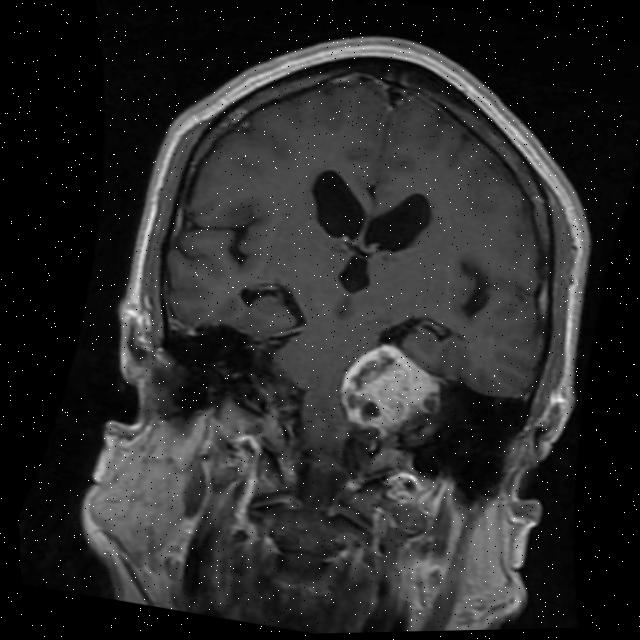Meningioma: (326, 332, 456, 452)
